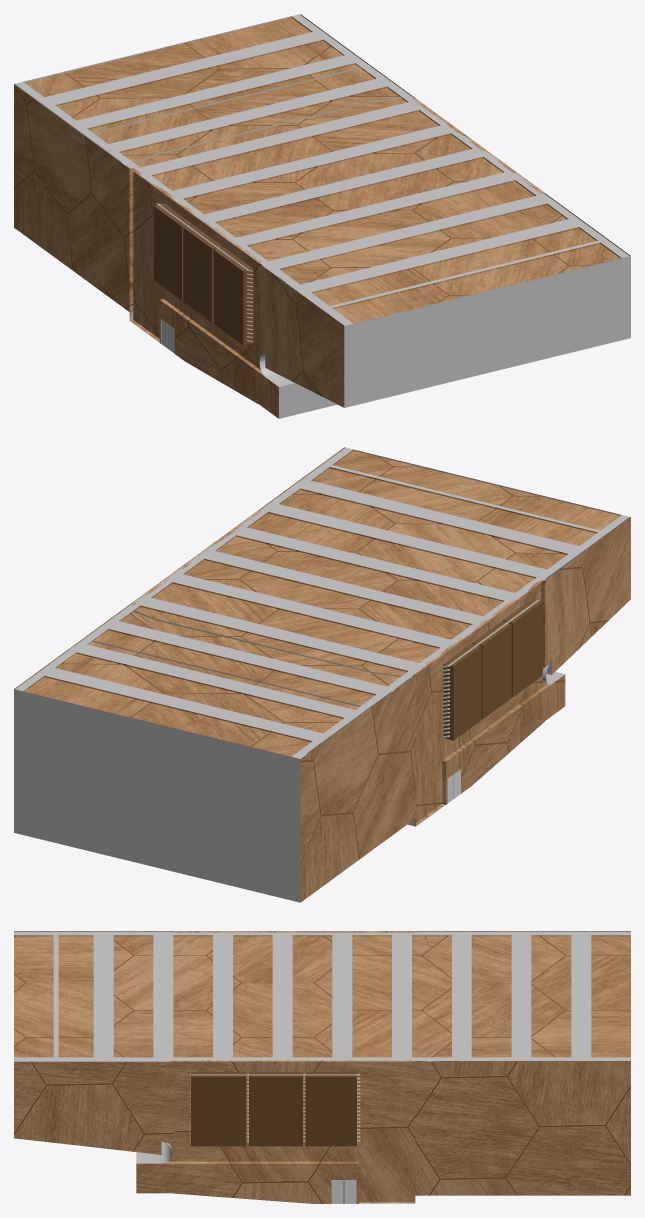
Rendered from final_auditorio.fbx.
The picture shows the model from 3 angles, top to bottom: view 1: azimuth 30°, elevation 25°; view 2: azimuth 150°, elevation 25°; view 3: azimuth 270°, elevation 25°; orthographic projection. The views are drawn at different scales.
Visible parts, largest first — view 1: techo, Paredes.001, techo.001, Paredes, Paredes.002, cortina 2; view 2: techo, Paredes.001, Paredes, techo.001, Paredes.002, cortina 2, percianas; view 3: Paredes.002, techo, techo.001, Paredes.001, Paredes, percianas, puertas.
Boxes of the visible parts, bbox=[...] form: techo: bbox=[25, 16, 621, 323]; Paredes.001: bbox=[14, 84, 344, 418]; techo.001: bbox=[15, 14, 629, 325]; Paredes: bbox=[14, 14, 630, 418]; Paredes.002: bbox=[300, 14, 630, 255]; cortina 2: bbox=[84, 65, 369, 150]; techo: bbox=[23, 449, 619, 756]; Paredes.001: bbox=[300, 517, 630, 902]; Paredes: bbox=[14, 447, 630, 902]; techo.001: bbox=[15, 447, 629, 758]; Paredes.002: bbox=[14, 447, 344, 689]; cortina 2: bbox=[83, 638, 369, 753]; percianas: bbox=[442, 599, 539, 738]; Paredes.002: bbox=[14, 1060, 630, 1203]; techo: bbox=[14, 935, 630, 1057]; techo.001: bbox=[14, 931, 630, 1060]; Paredes.001: bbox=[14, 931, 630, 1061]; Paredes: bbox=[14, 936, 439, 1203]; percianas: bbox=[190, 1074, 360, 1141]; puertas: bbox=[332, 1181, 356, 1203].
Size of the model in its own units: 24.82 by 12.06 by 47.42.
